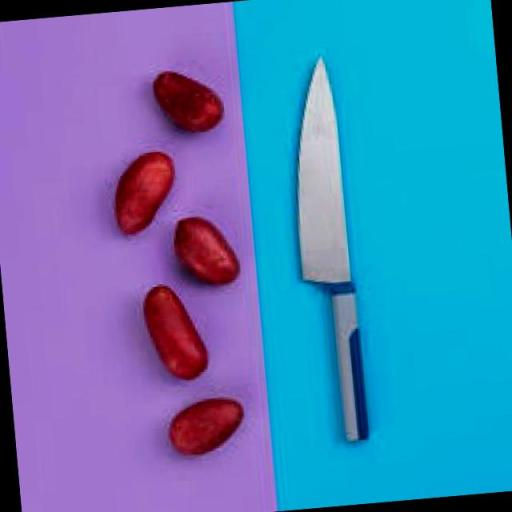knife: (248, 52, 434, 487)
